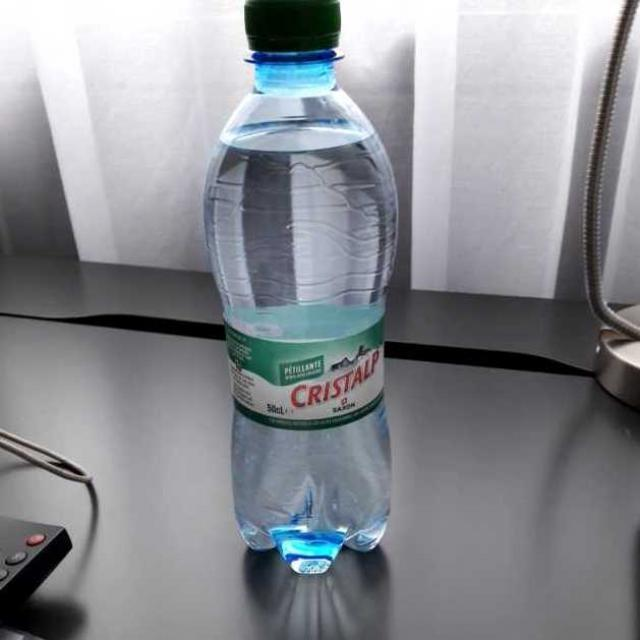water: (187, 79, 402, 568)
